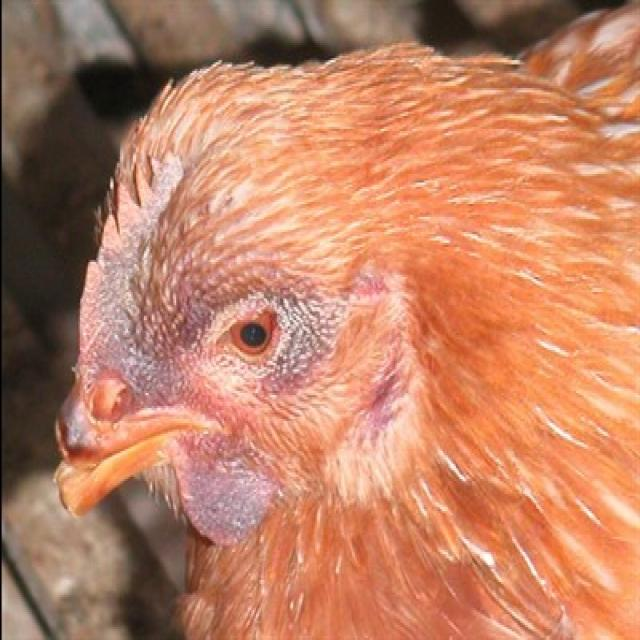bird flu: (47, 10, 638, 640)
